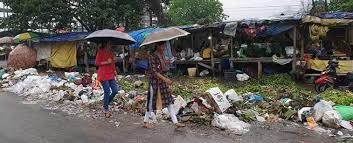garbage: (176, 91, 352, 131), (4, 70, 96, 101), (118, 92, 145, 109)
